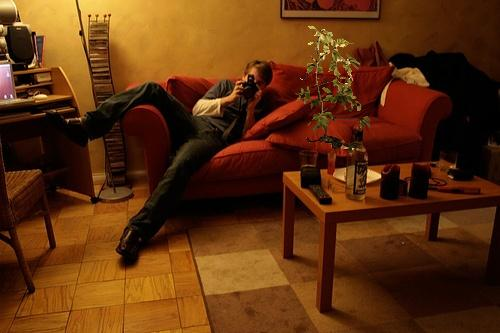tampered: (296, 27, 370, 153)
